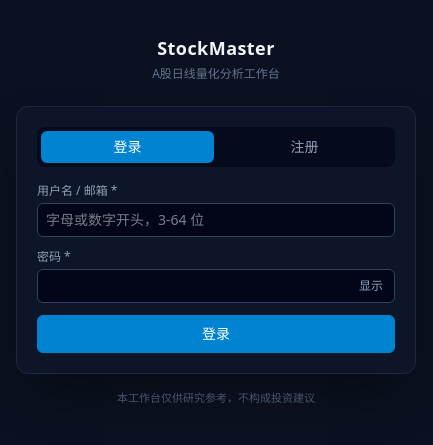
it: 登录表单校验 › 登录失败把后端消息显示在表单顶部
Type "alice" into the field labelled "用户名 / 邮箱 *".
click(216, 220); type("alice")  # box x1=37 y1=203 x2=395 y2=237
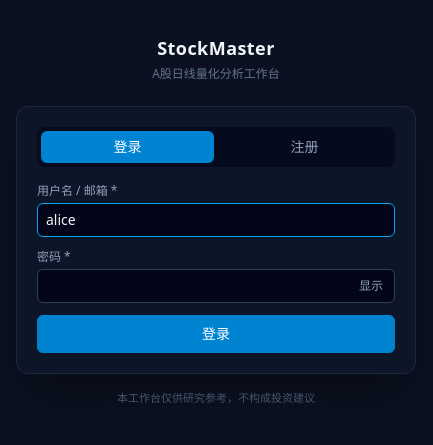
Type "wrong" into the password field labelled "密码 *".
click(216, 286); type("wrong")  # box x1=37 y1=269 x2=395 y2=303
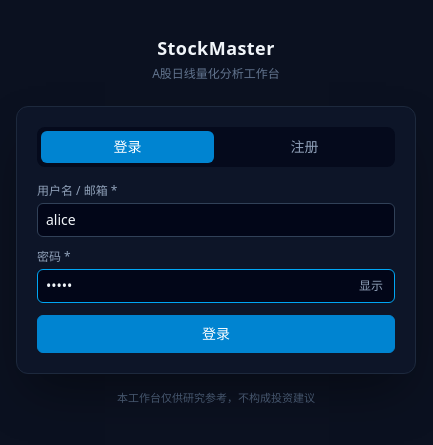
Click the button "登录".
click(216, 334)  # box x1=37 y1=315 x2=395 y2=353
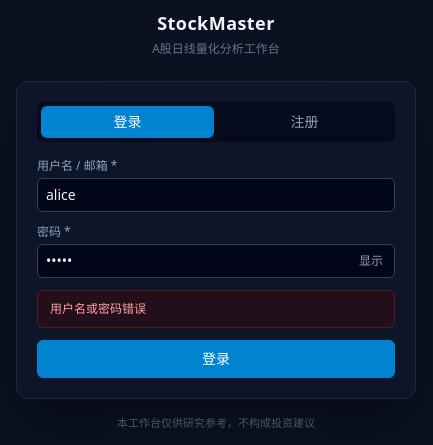
Now the message reads "用户名或密码错误", box x1=50 y1=300 x2=146 y2=317
